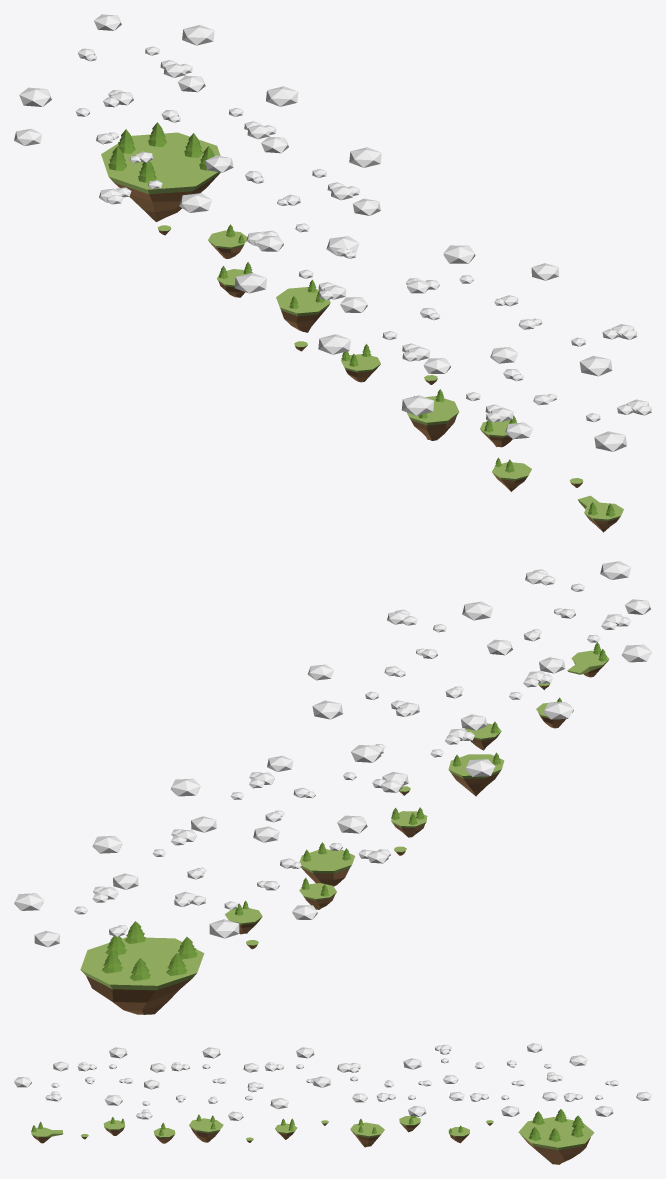
File: floatingisland_only_NEW.obj
3 renders of one model, top to bottom at view 1: azimuth 30°, elevation 25°; view 2: azimuth 150°, elevation 25°; view 3: azimuth 270°, elevation 25°, orthographic. The views are drawn at different scales.
Parts seen in each view (by area): view 1: floatingislands.003_Material.026, floatingislands.003_Material.024, floatingislands.003_Material.021, floatingislands.003_Material.027, floatingislands.003_Material.032, floatingislands.003_Material.030, floatingislands.003_Material.034, floatingislands.003_Material.037, floatingislands.003_Material.035, floatingislands.003_Material.029, floatingislands.003_Material.036, floatingislands.003_Material.028 (+2 smaller); view 2: floatingislands.003_Material.026, floatingislands.003_Material.024, floatingislands.003_Material.021, floatingislands.003_Material.036, floatingislands.003_Material.030, floatingislands.003_Material.027, floatingislands.003_Material.032, floatingislands.003_Material.037, floatingislands.003_Material.028, floatingislands.003_Material.029, floatingislands.003_Material.035, floatingislands.003_Material.034 (+2 smaller); view 3: floatingislands.003_Material.026, floatingislands.003_Material.024, floatingislands.003_Material.021, floatingislands.003_Material.028, floatingislands.003_Material.035, floatingislands.003_Material.029, floatingislands.003_Material.037, floatingislands.003_Material.034, floatingislands.003_Material.030, floatingislands.003_Material.036, floatingislands.003_Material.027, floatingislands.003_Material.032 (+2 smaller).
Part boxes in pixels (x1,y1,x2,y2): floatingislands.003_Material.026: (101, 122, 220, 221); floatingislands.003_Material.024: (341, 318, 637, 532); floatingislands.003_Material.021: (157, 224, 330, 332); floatingislands.003_Material.027: (505, 394, 651, 451); floatingislands.003_Material.032: (99, 151, 233, 212); floatingislands.003_Material.030: (406, 245, 558, 306); floatingislands.003_Material.034: (161, 75, 298, 139); floatingislands.003_Material.037: (77, 14, 214, 77); floatingislands.003_Material.035: (245, 136, 381, 200); floatingislands.003_Material.029: (401, 358, 523, 422); floatingislands.003_Material.036: (14, 87, 133, 145); floatingislands.003_Material.028: (318, 297, 440, 361); floatingislands.003_Material.026: (80, 921, 204, 1014); floatingislands.003_Material.024: (387, 601, 609, 837); floatingislands.003_Material.021: (225, 842, 355, 949); floatingislands.003_Material.036: (174, 880, 317, 938); floatingislands.003_Material.030: (307, 664, 419, 719); floatingislands.003_Material.027: (525, 561, 650, 618); floatingislands.003_Material.032: (253, 815, 390, 868); floatingislands.003_Material.037: (14, 886, 127, 947); floatingislands.003_Material.028: (445, 671, 573, 730); floatingislands.003_Material.029: (523, 614, 651, 673); floatingislands.003_Material.035: (170, 772, 284, 832); floatingislands.003_Material.034: (92, 829, 206, 889); floatingislands.003_Material.026: (518, 1109, 594, 1164); floatingislands.003_Material.024: (31, 1079, 297, 1143); floatingislands.003_Material.021: (350, 1116, 493, 1147); floatingislands.003_Material.028: (171, 1047, 259, 1083); floatingislands.003_Material.035: (376, 1080, 464, 1116); floatingislands.003_Material.029: (77, 1047, 165, 1083); floatingislands.003_Material.037: (563, 1080, 651, 1116); floatingislands.003_Material.034: (470, 1080, 557, 1116); floatingislands.003_Material.030: (208, 1082, 288, 1120); floatingislands.003_Material.036: (506, 1043, 587, 1081); floatingislands.003_Material.027: (14, 1061, 94, 1101); floatingislands.003_Material.032: (403, 1044, 484, 1083).
Size of the model in its own units: 299 by 145 by 1076.
